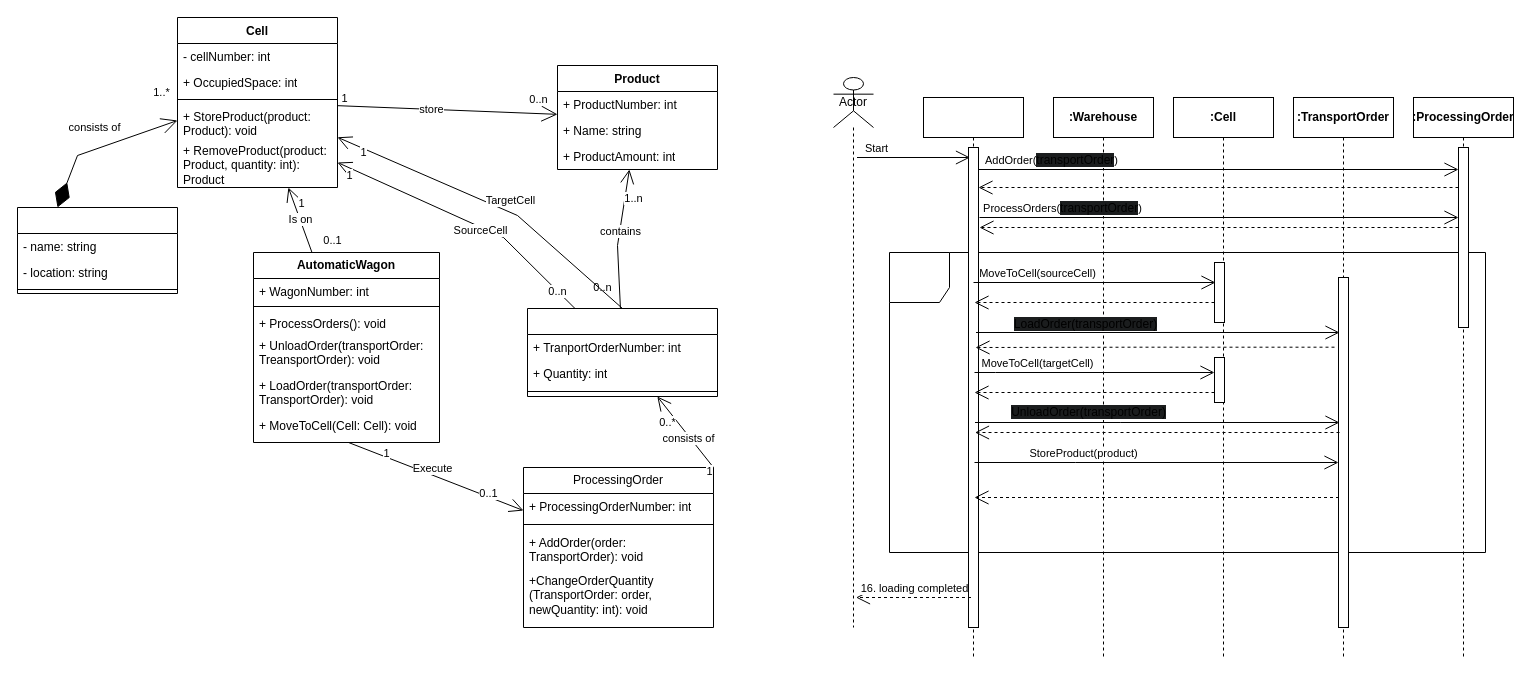
Image size: 1531x675. Some labels were removed from this diagram. The shapes that lost their labels are listed below. From the top down, each one's box as (x1, y1, x2, y2) in pixels, then its label:
(16, 206, 178, 294): Warehouse
(526, 308, 718, 396): TransportOrder
(922, 96, 1024, 658): :AutomaticWagon
(888, 252, 1486, 552): For All Transport Orders
